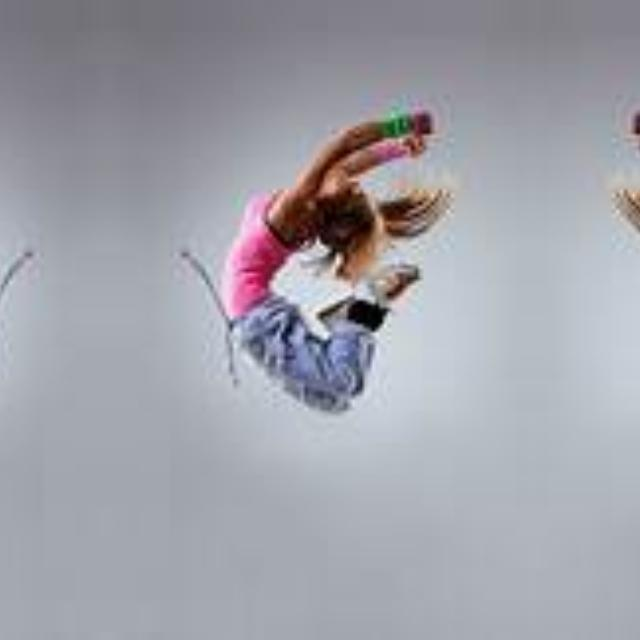person: (177, 90, 433, 450), (0, 89, 35, 450), (632, 89, 640, 450)
